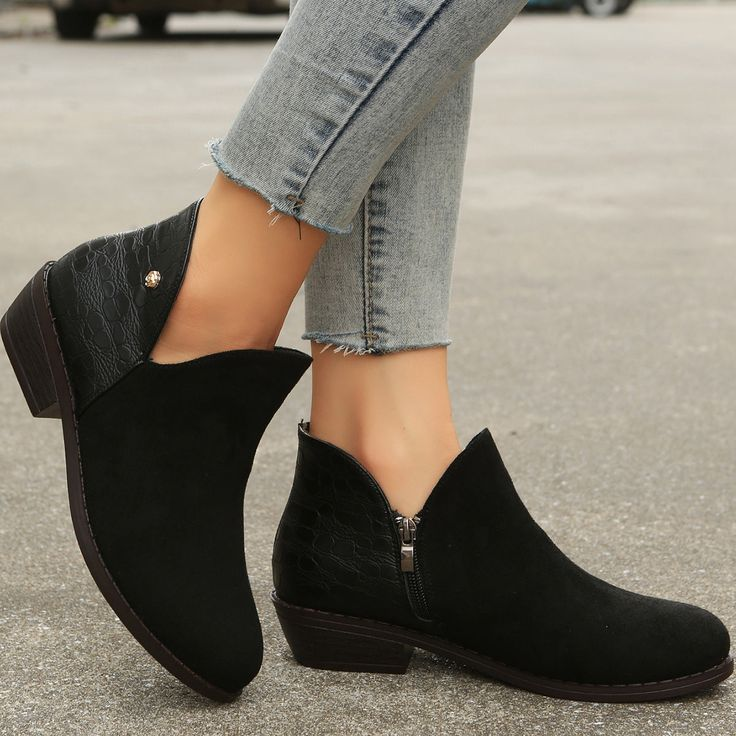gamuza: (77, 348, 730, 693)
